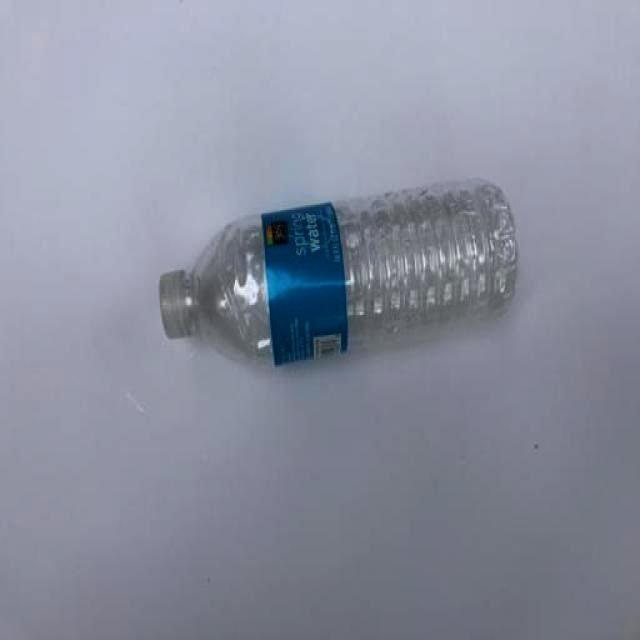bottle: (158, 178, 519, 369)
